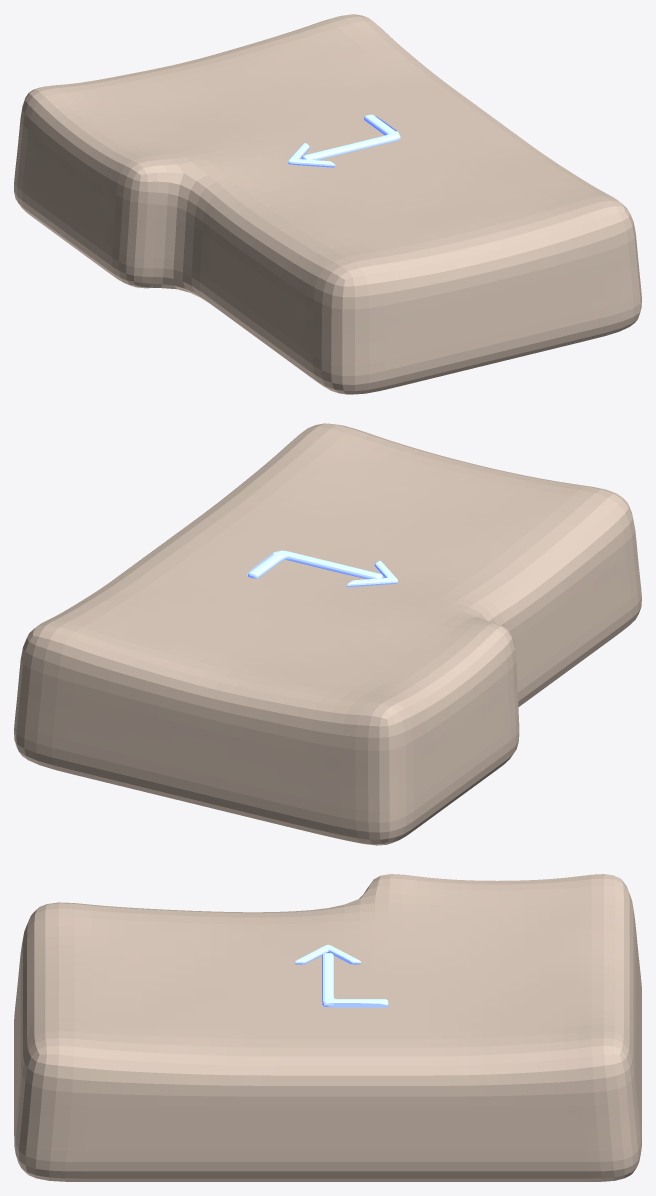
The model's file is keyboard_enter.glb.
3 renders of one model, top to bottom at view 1: azimuth 30°, elevation 25°; view 2: azimuth 150°, elevation 25°; view 3: azimuth 270°, elevation 25°, orthographic. The views are drawn at different scales.
Visible parts, largest first — view 1: Enter, Text; view 2: Enter, Text; view 3: Enter, Text.
Boxes of the visible parts, box(x1,y1,x2,y2) form: Enter: box(14, 14, 641, 394); Text: box(288, 114, 400, 167); Enter: box(14, 423, 641, 845); Text: box(246, 550, 398, 587); Enter: box(14, 874, 641, 1181); Text: box(294, 944, 388, 1007).
Bounding box in the file's own units: 1.13 × 0.3769 × 1.55.
